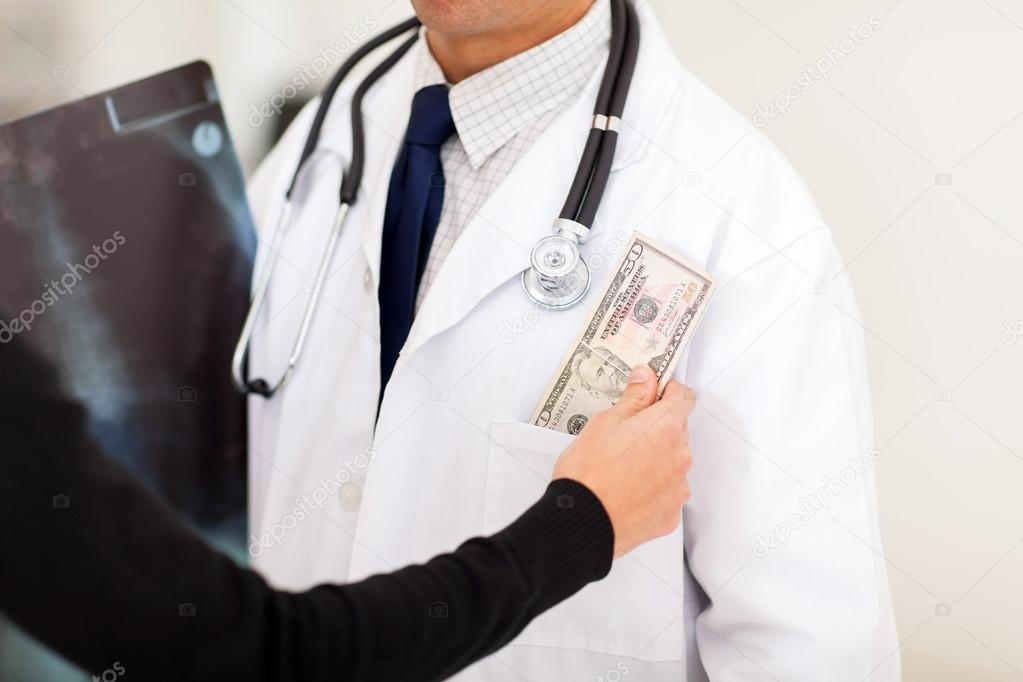billete: (526, 226, 720, 438)
